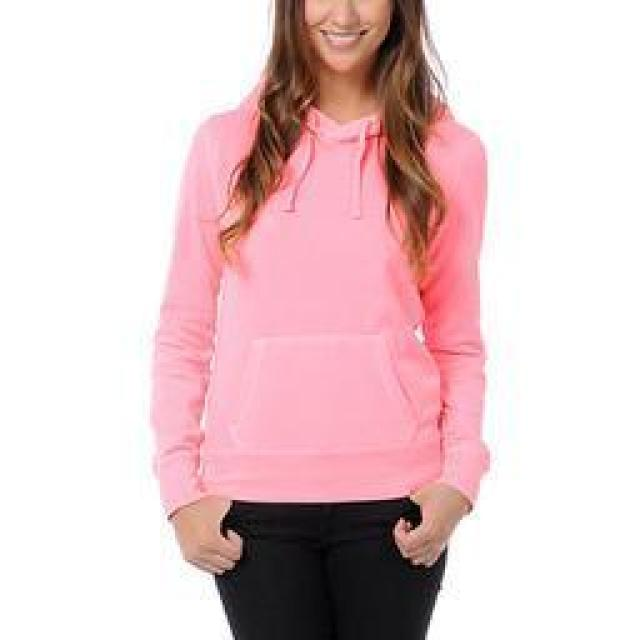sweater: (149, 62, 496, 520)
